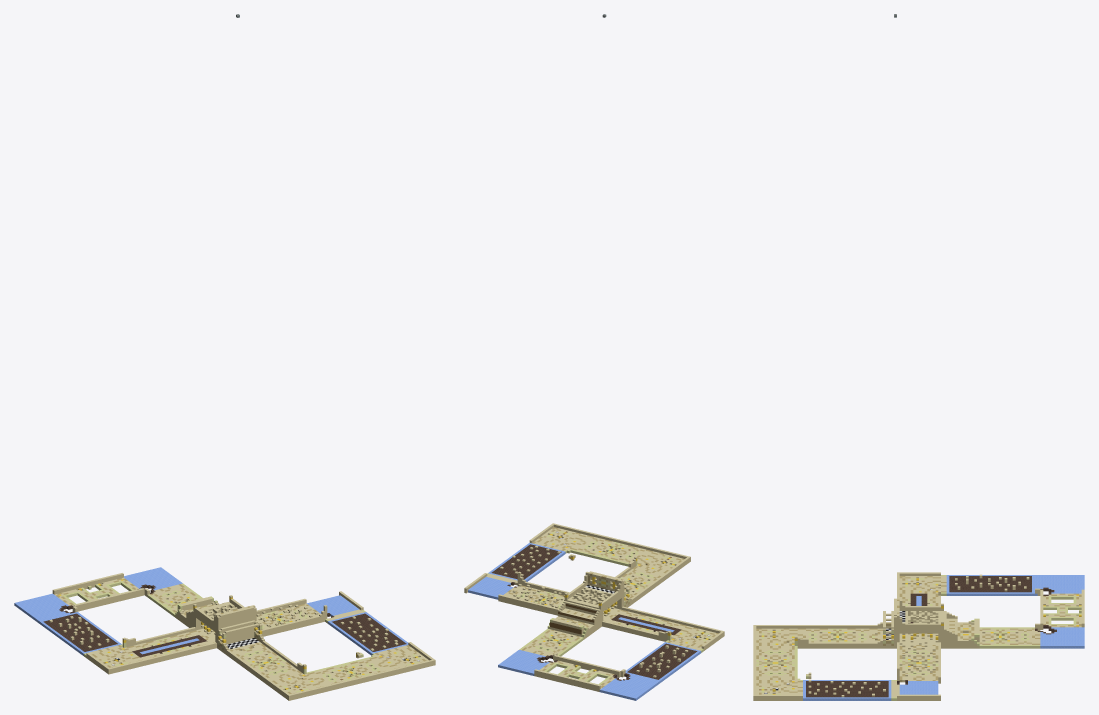
File: minecraft.obj
3 views of the same model, side by side, from view 1: azimuth 30°, elevation 25°; view 2: azimuth 150°, elevation 25°; view 3: azimuth 270°, elevation 25° (orthographic). The views are drawn at different scales.
Bounding box in the file's own units: 106 × 251 × 120.
